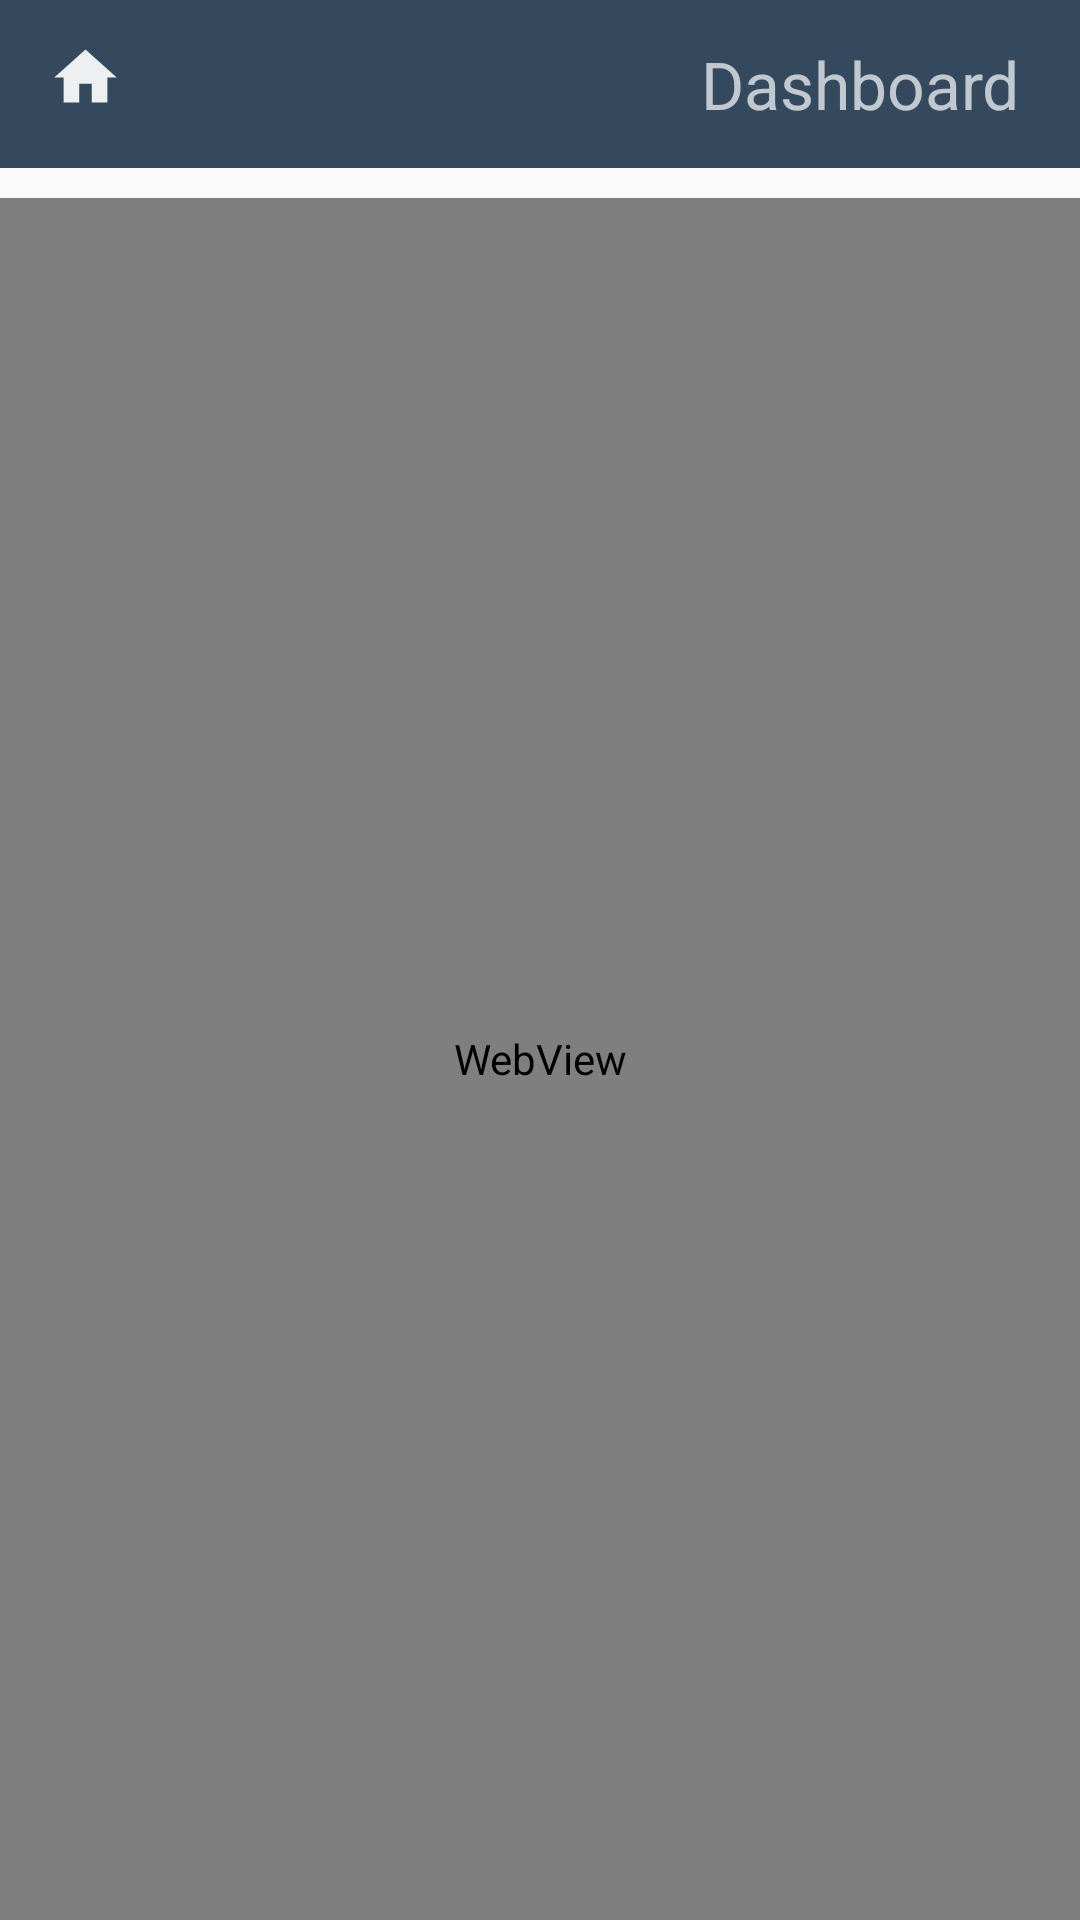

Screen size 1080*1920. Icon name, then its box in pixels as BBox(x1, y1, x2, y2):
home: BBox(54, 49, 117, 103)
